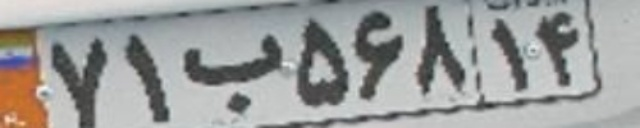1: (125, 32, 168, 120), (488, 17, 529, 90)
4: (536, 10, 582, 87)
5: (294, 18, 349, 106)
6: (353, 9, 404, 101)
7: (48, 35, 110, 127)
8: (413, 5, 466, 94)
be: (181, 32, 283, 113)
